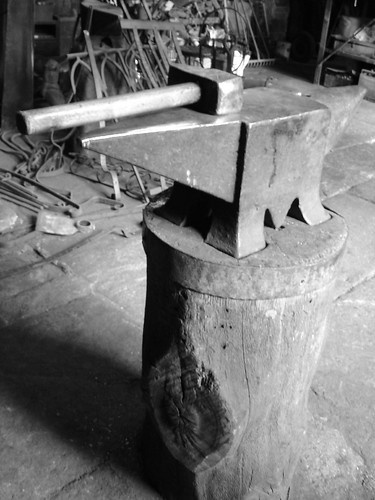hammer: (17, 62, 244, 138)
